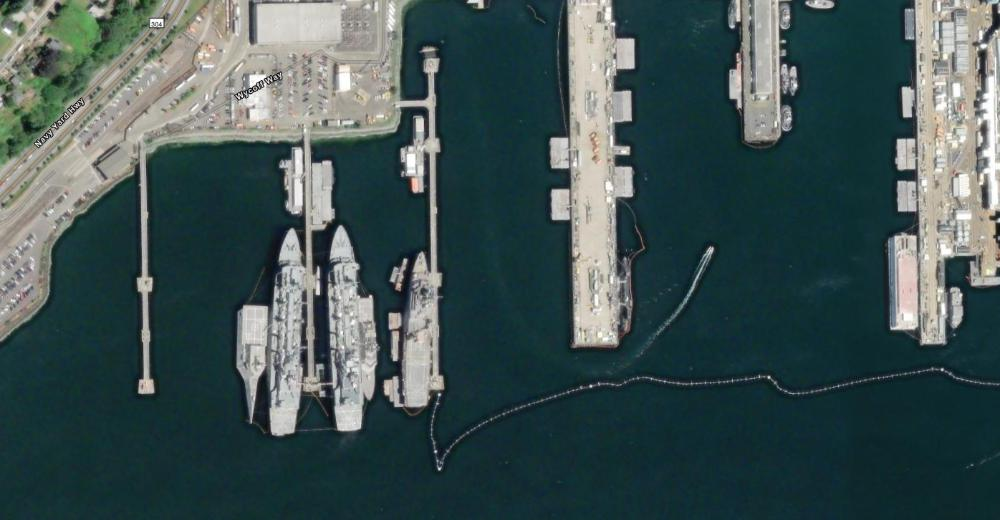littoral combat ship: (234, 305, 269, 430)
tender: (323, 221, 376, 443), (266, 221, 308, 448)
